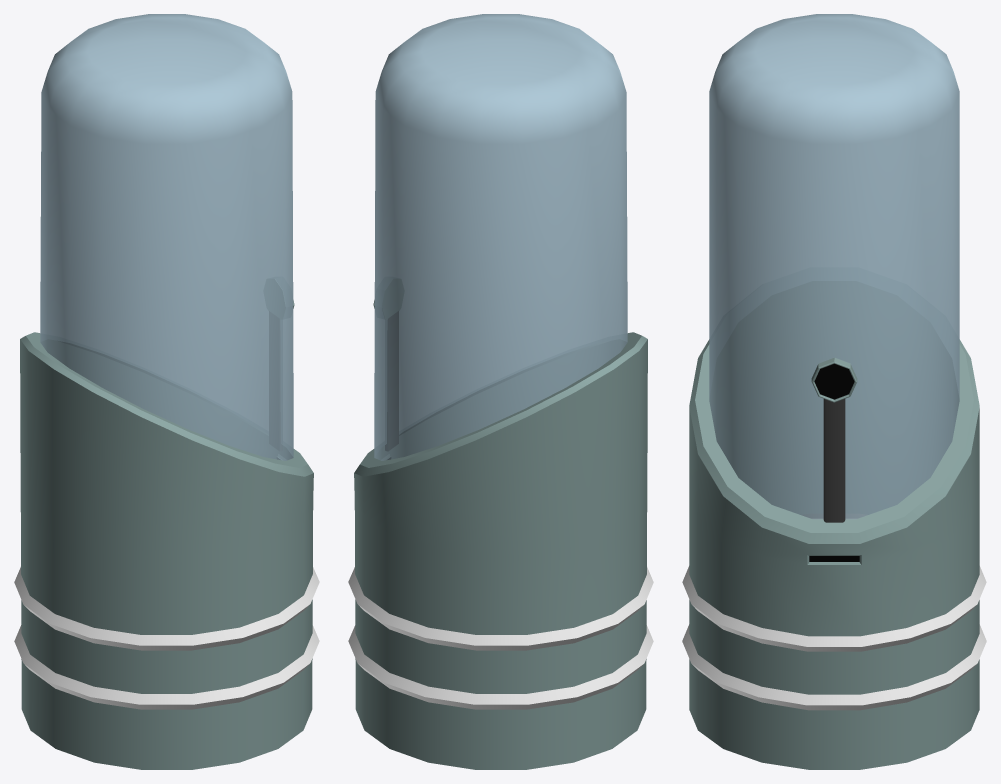
The model's file is TicketStall.fbx.
3 views of the same model, side by side, from view 1: azimuth 30°, elevation 25°; view 2: azimuth 150°, elevation 25°; view 3: azimuth 270°, elevation 25° (orthographic).
Parts seen in each view (by area): view 1: TicketBooth; view 2: TicketBooth; view 3: TicketBooth.
Boxes of the visible parts, x1,y1,x2,y2 form: TicketBooth: (14,14,319,769); TicketBooth: (348,14,653,769); TicketBooth: (682,14,986,769).
Size of the model in its own units: 414 by 1000 by 420.
